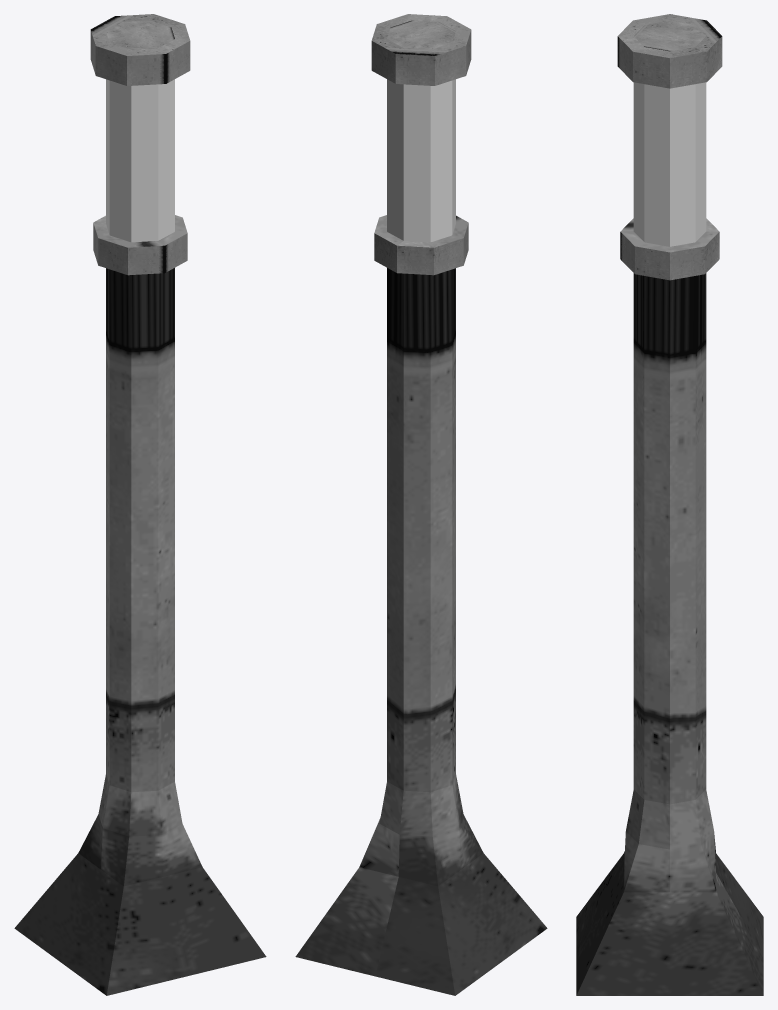
The model's file is Claustro_Lampara.fbx.
The picture shows the model from 3 angles, left to right: view 1: azimuth 30°, elevation 25°; view 2: azimuth 150°, elevation 25°; view 3: azimuth 270°, elevation 25°; orthographic projection.
Parts seen in each view (by area): view 1: Cube; view 2: Cube; view 3: Cube.
Boxes of the visible parts, left/top/right/bottom form: Cube: left=14, top=14, right=266, bottom=995; Cube: left=295, top=14, right=547, bottom=995; Cube: left=576, top=14, right=763, bottom=995.
Size of the model in its own units: 203 by 1100 by 203.
